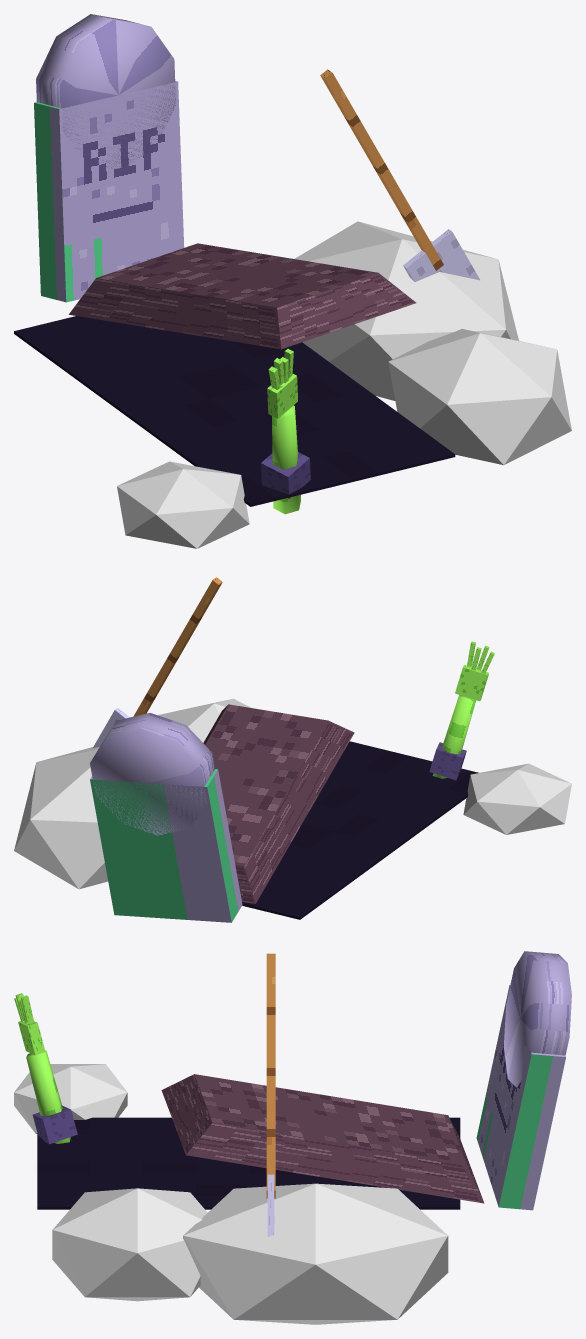
Rendered from Open Grave.fbx.
The picture shows the model from 3 angles, top to bottom: view 1: azimuth 30°, elevation 25°; view 2: azimuth 150°, elevation 25°; view 3: azimuth 270°, elevation 25°; orthographic projection. The views are drawn at different scales.
Parts seen in each view (by area): view 1: Open Grave hole, Open Grave stone slab, Open Grave stone mound, Open Grave dirt 1, Open Grave dirt 0, Open Grave stone top, Open Grave dirt 2, Open Grave shovel handle, Open Grave shovel blade, Open Grave forearm, Open Grave sleeve, Open Grave palm; view 2: Open Grave hole, Open Grave stone slab, Open Grave stone mound, Open Grave stone top, Open Grave dirt 0, Open Grave dirt 2, Open Grave shovel handle, Open Grave dirt 1, Open Grave forearm, Open Grave sleeve, Open Grave palm; view 3: Open Grave dirt 0, Open Grave stone mound, Open Grave hole, Open Grave dirt 1, Open Grave stone slab, Open Grave stone top, Open Grave dirt 2, Open Grave shovel handle, Open Grave forearm, Open Grave sleeve, Open Grave palm, Open Grave shovel blade.
Boxes of the visible parts, box(x1,y1,x2,y2) form: Open Grave hole: box(14, 316, 455, 506); Open Grave stone slab: box(34, 81, 184, 302); Open Grave stone mound: box(69, 243, 416, 349); Open Grave dirt 1: box(388, 329, 571, 465); Open Grave dirt 0: box(294, 221, 518, 400); Open Grave stone top: box(36, 14, 175, 169); Open Grave dirt 2: box(117, 461, 249, 548); Open Grave shovel handle: box(320, 69, 443, 270); Open Grave shovel blade: box(403, 229, 479, 281); Open Grave forearm: box(272, 405, 300, 514); Open Grave sleeve: box(261, 452, 310, 498); Open Grave palm: box(267, 374, 297, 418); Open Grave hole: box(242, 741, 478, 919); Open Grave stone slab: box(90, 769, 242, 922); Open Grave stone mound: box(203, 704, 354, 903); Open Grave stone top: box(90, 713, 215, 835); Open Grave dirt 0: box(14, 747, 108, 889); Open Grave dirt 2: box(463, 763, 571, 834); Open Grave shovel handle: box(133, 577, 222, 716); Open Grave dirt 1: box(158, 698, 251, 742); Open Grave forearm: box(432, 695, 475, 778); Open Grave sleeve: box(429, 742, 466, 780); Open Grave palm: box(455, 664, 488, 701); Open Grave dirt 0: box(183, 1183, 448, 1324); Open Grave stone mound: box(161, 1074, 484, 1203); Open Grave hole: box(37, 1117, 460, 1209); Open Grave dirt 1: box(52, 1188, 207, 1301); Open Grave stone slab: box(476, 985, 565, 1210); Open Grave stone top: box(503, 951, 571, 1087); Open Grave dirt 2: box(14, 1064, 127, 1133); Open Grave shovel handle: box(266, 953, 275, 1198); Open Grave forearm: box(26, 1050, 70, 1143); Open Grave sleeve: box(32, 1105, 77, 1144); Open Grave palm: box(18, 1021, 45, 1055); Open Grave shovel blade: box(267, 1174, 274, 1236).
Size of the model in its own units: 2.37 by 1.63 by 2.51.
9 materials, 8 textured.
